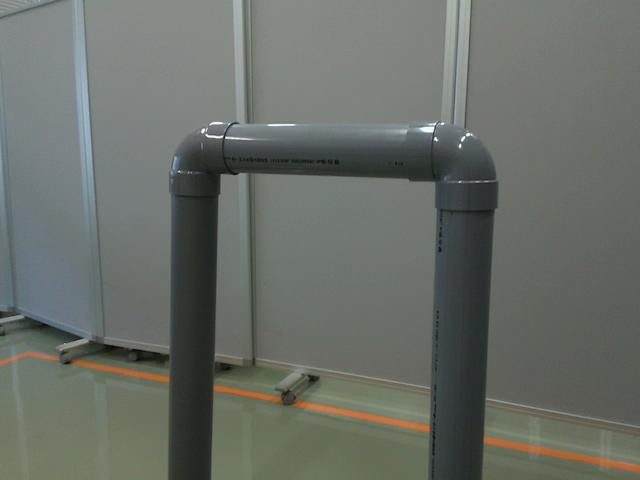bent: (403, 118, 498, 212), (169, 120, 247, 197)
